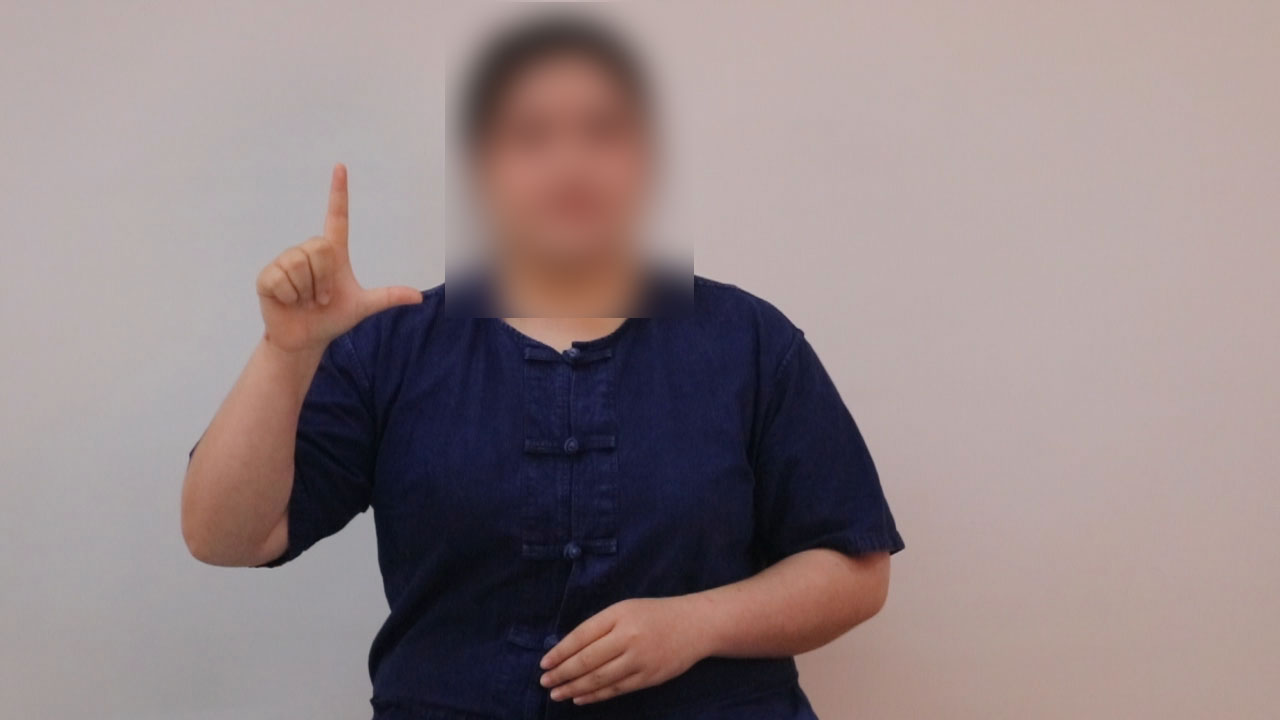lor: (234, 155, 482, 377)
